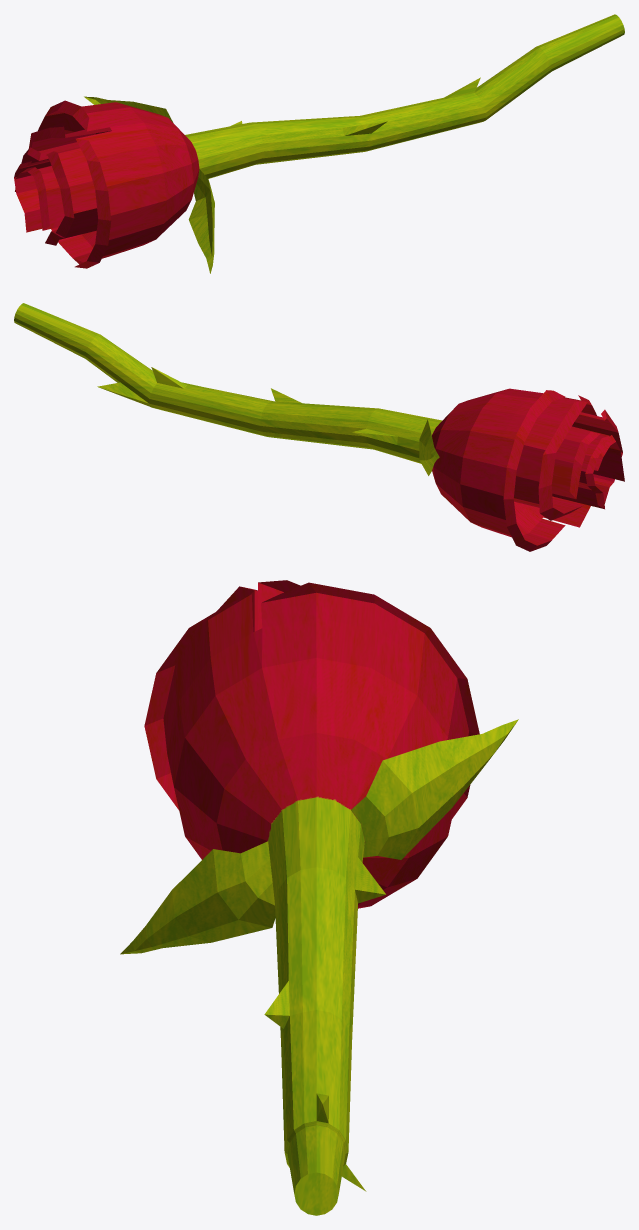
Rendered from Rosa.fbx.
3 views of the same model, one above another, from view 1: azimuth 30°, elevation 25°; view 2: azimuth 150°, elevation 25°; view 3: azimuth 270°, elevation 25° (orthographic). The views are drawn at different scales.
Parts seen in each view (by area): view 1: Plane; view 2: Plane; view 3: Plane.
Boxes of the visible parts, x1,y1,x2,y2 form: Plane: (14, 14, 624, 273); Plane: (14, 303, 624, 551); Plane: (120, 580, 518, 1215).
Bounding box in the file's own units: 364 × 92.68 × 108.
